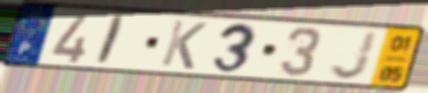3: (209, 20, 263, 76), (278, 25, 325, 80)
4: (48, 12, 91, 65)
I: (92, 13, 129, 67)
J: (327, 29, 381, 82)
K: (158, 18, 210, 72)
